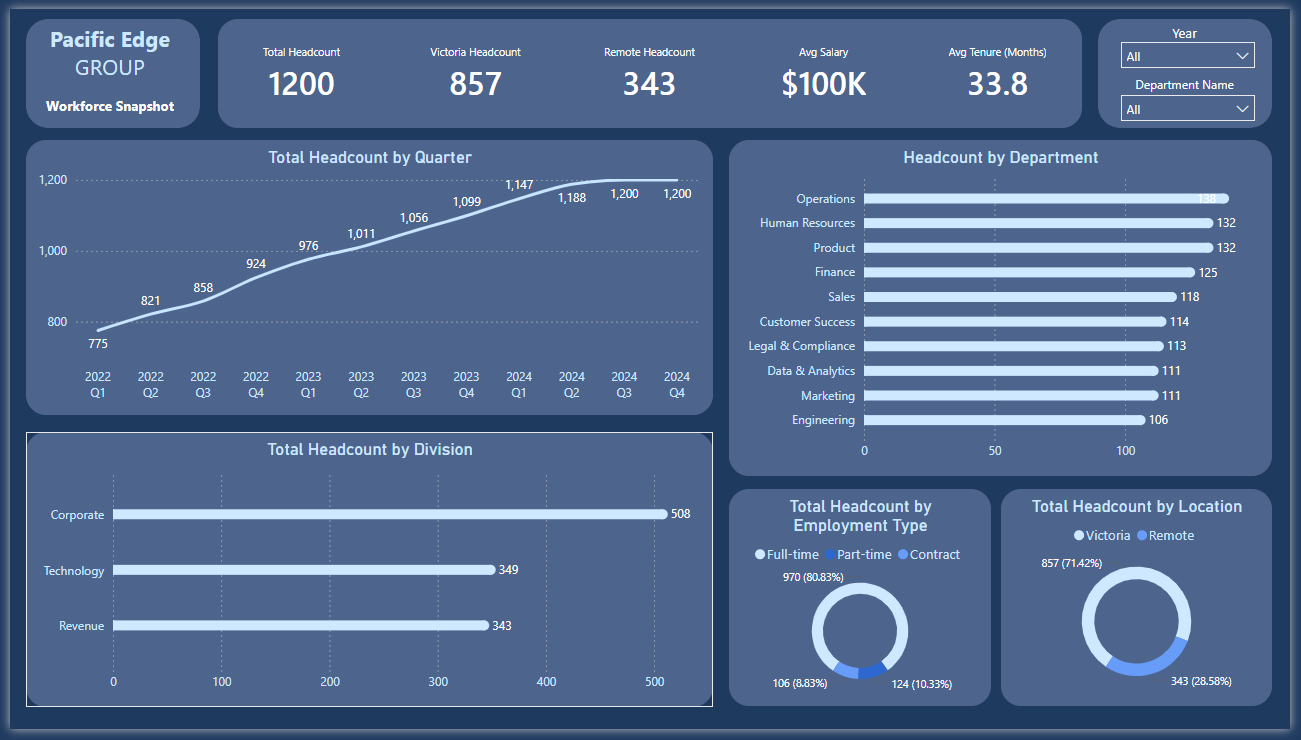

Layout of this report page (visuals, bound fields, positions):
{"tool":"powerbi","page":{"name":"Workforce Snapshot","canvas":[1280,720],"ordinal":0},"visuals":[{"type":"cardVisual","fields":{"Data":["_Measures.Total Headcount","_Measures.Victoria Headcount","_Measures.Remote Headcount","_Measures.Avg Salary","_Measures.Avg Tenure (Months)"]},"box":[207.8,10,864.4,108.9],"z":0},{"type":"shape","box":[15.6,10,174.4,108.9],"z":1000},{"type":"shape","box":[1087.8,10,174.4,108.9],"z":2000,"group":"g1"},{"type":"lineChart","title":"Total Headcount by Quarter","fields":{"Category":["dim_date.year_quarter"],"Y":["_Measures.Total Headcount"]},"box":[15.6,131.1,687.8,274.4],"z":2000},{"type":"clusteredBarChart","title":"Total Headcount by Division","fields":{"Category":["dim_department.division"],"Y":["_Measures.Total Headcount"]},"box":[15.6,423.3,687.8,274.4],"z":3000},{"type":"clusteredBarChart","title":"Headcount by Department","fields":{"Category":["dim_department.dept_name"],"Y":["_Measures.Total Headcount"]},"box":[718.9,131.1,543.3,335.6],"z":4000},{"type":"donutChart","title":"Total Headcount by Employment Type","fields":{"Category":["dim_employee.employment_type"],"Y":["_Measures.Total Headcount"]},"box":[718.9,480,262.2,216.7],"z":5000},{"type":"donutChart","title":"Total Headcount by Location","fields":{"Category":["dim_employee.location"],"Y":["_Measures.Total Headcount"]},"box":[991.1,480,271.1,216.7],"z":6000},{"type":"textbox","box":[29,10,143,109],"z":7000},{"type":"group","id":"g1","title":"Group 1","box":[1087.8,10,174.4,121.1],"z":8000},{"type":"slicer","fields":{"Values":["dim_date.year"]},"box":[1101.1,22.6,153.7,54.2],"z":8000,"group":"g1"},{"type":"slicer","fields":{"Values":["dim_department.dept_name"]},"box":[1101.1,75.8,153.7,55.3],"z":9000,"group":"g1"},{"type":"textbox","box":[1087.9,10,174.2,47.4],"z":10000,"group":"g1"},{"type":"textbox","box":[1087.9,60.5,174.2,47.9],"z":11000,"group":"g1"}]}

Visuals, with their boxes in screenshot pixels (x1, y1, x2, y2), scaled from the page's 1280x720 canvas onto the 1301x740 screenshot:
cardVisual - _Measures.Total Headcount x _Measures.Victoria Headcount: (x1=211, y1=10, x2=1090, y2=122)
shape: (x1=16, y1=10, x2=193, y2=122)
shape: (x1=1106, y1=10, x2=1283, y2=122)
"Total Headcount by Quarter" lineChart: (x1=16, y1=135, x2=715, y2=417)
"Total Headcount by Division" clusteredBarChart: (x1=16, y1=435, x2=715, y2=717)
"Headcount by Department" clusteredBarChart: (x1=731, y1=135, x2=1283, y2=480)
"Total Headcount by Employment Type" donutChart: (x1=731, y1=493, x2=997, y2=716)
"Total Headcount by Location" donutChart: (x1=1007, y1=493, x2=1283, y2=716)
textbox: (x1=29, y1=10, x2=175, y2=122)
"Group 1" group: (x1=1106, y1=10, x2=1283, y2=135)
slicer - dim_date.year: (x1=1119, y1=23, x2=1275, y2=79)
slicer - dim_department.dept_name: (x1=1119, y1=78, x2=1275, y2=135)
textbox: (x1=1106, y1=10, x2=1283, y2=59)
textbox: (x1=1106, y1=62, x2=1283, y2=111)
